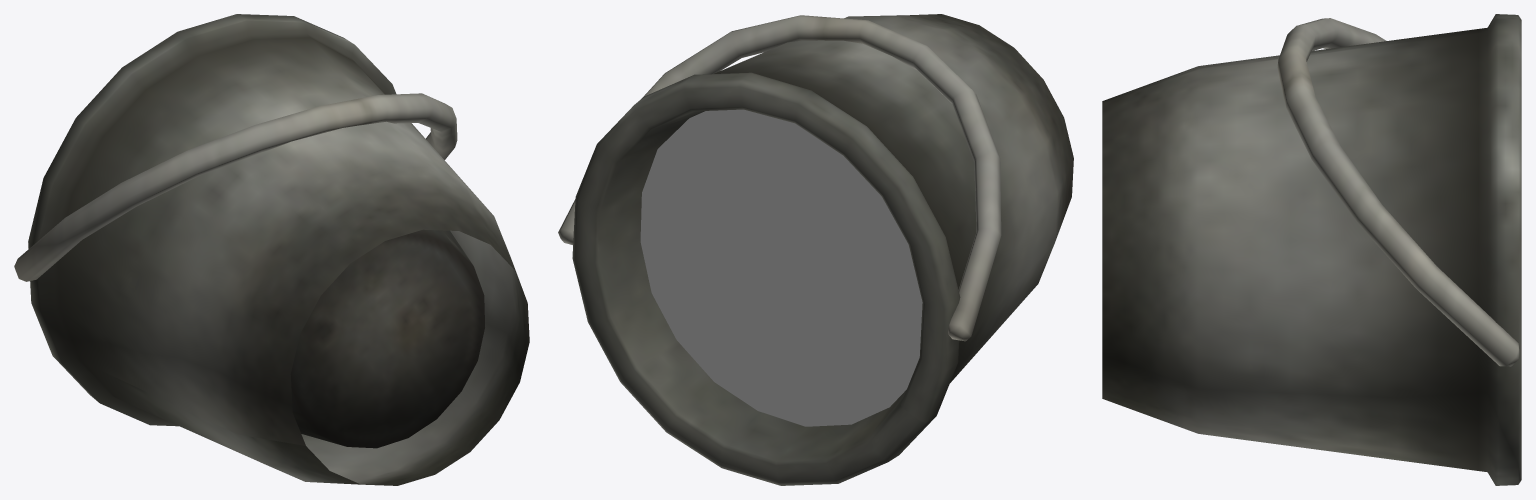
File: Bucket.FBX
3 views of the same model, side by side, from view 1: azimuth 30°, elevation 25°; view 2: azimuth 150°, elevation 25°; view 3: azimuth 270°, elevation 25° (orthographic). The views are drawn at different scales.
Parts seen in each view (by area): view 1: Bucket; view 2: Bucket, Bucket_water; view 3: Bucket.
Boxes of the visible parts, <box> form: Bucket: <box>14,14,529,485</box>; Bucket: <box>558,14,1073,485</box>; Bucket_water: <box>640,109,922,426</box>; Bucket: <box>1102,14,1521,485</box>.
Size of the model in its own units: 0.6969 by 0.6469 by 0.5761.
